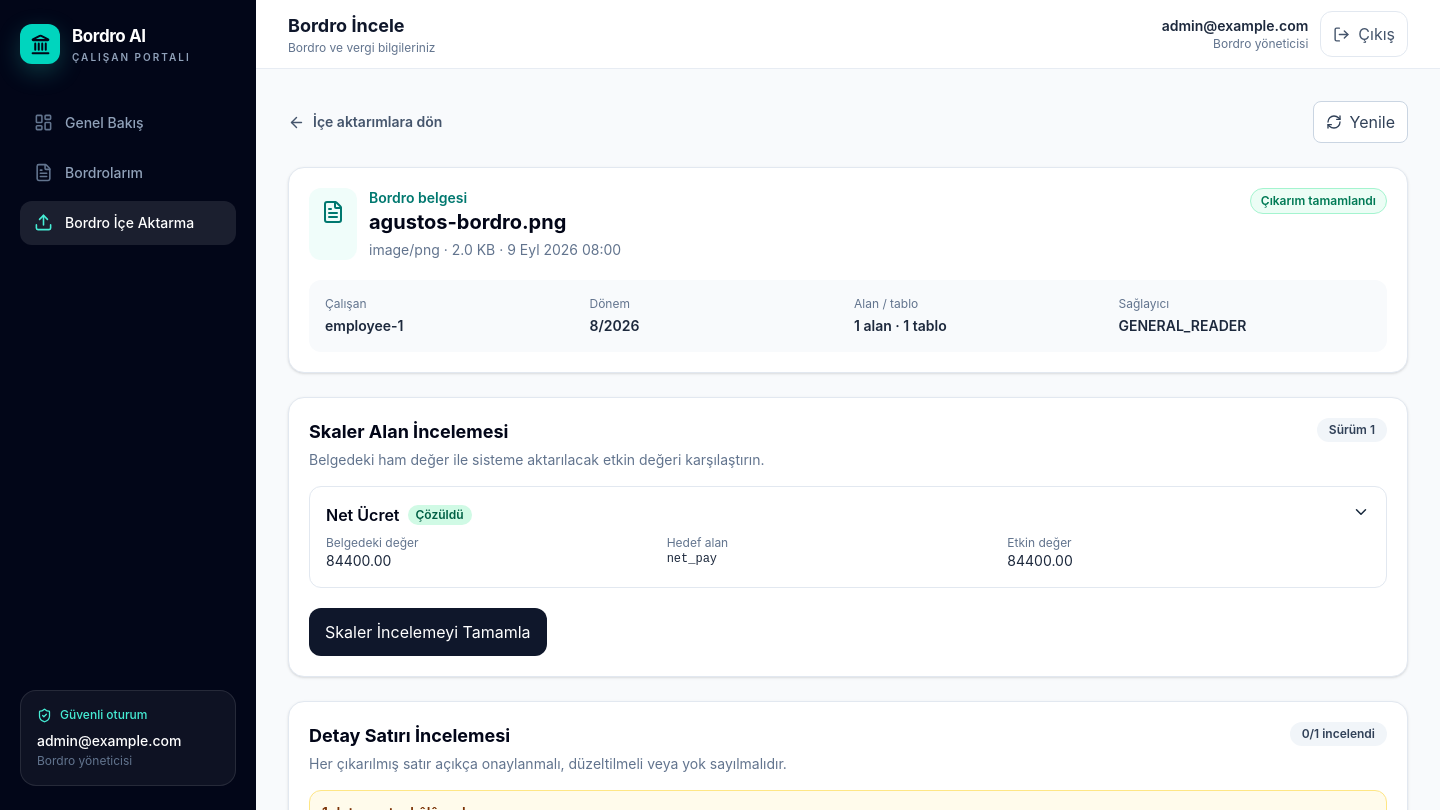
it: V2.2A payroll import experience › reloads and explains a stale optimistic-concurrency conflict
Click the button "Net Ücret": click(363, 515) [310,487,1386,587]
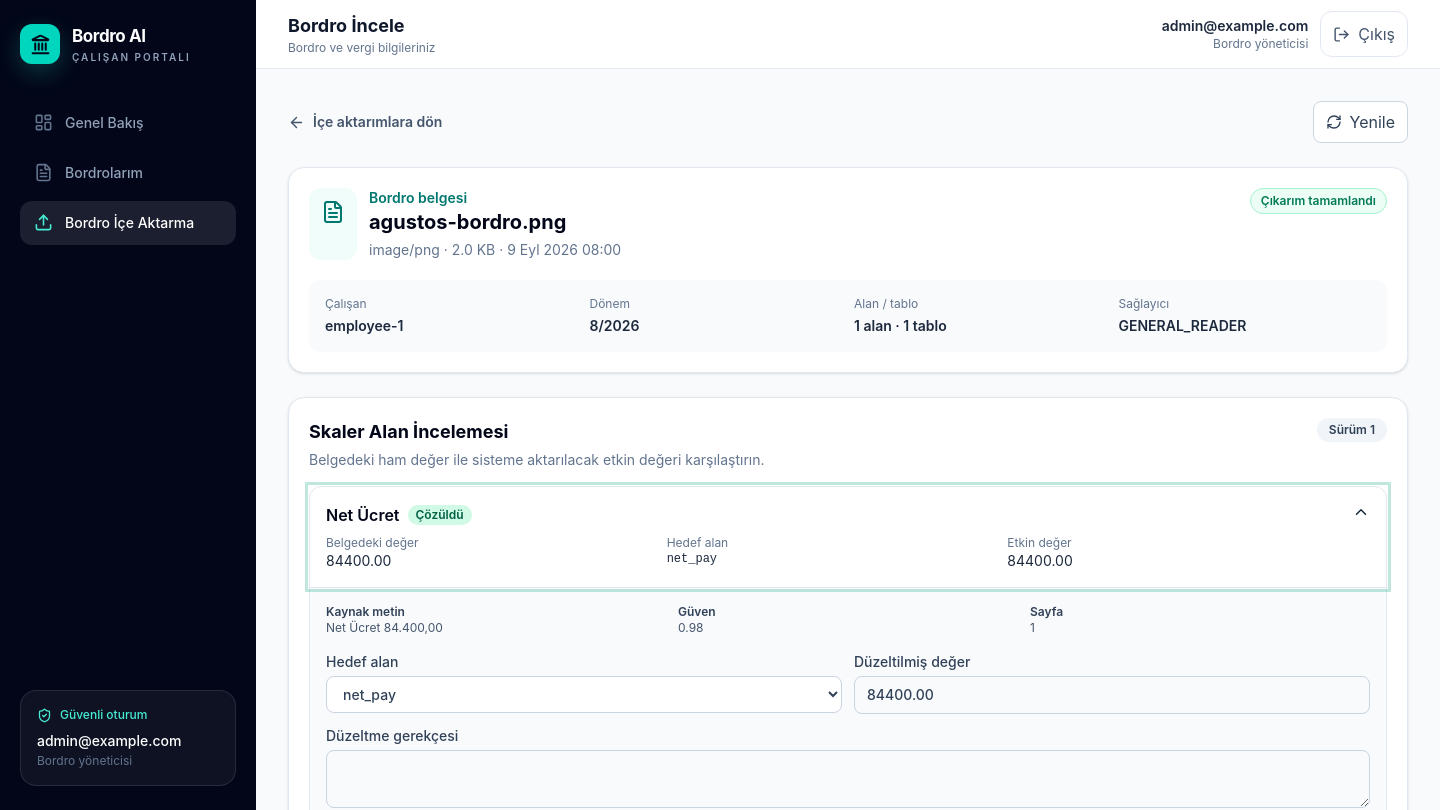
In the text box named "Net Ücret düzeltme gerekçesi": (848, 779) [326,750,1370,808], type "Kontrol edildi"
(page scrolled)
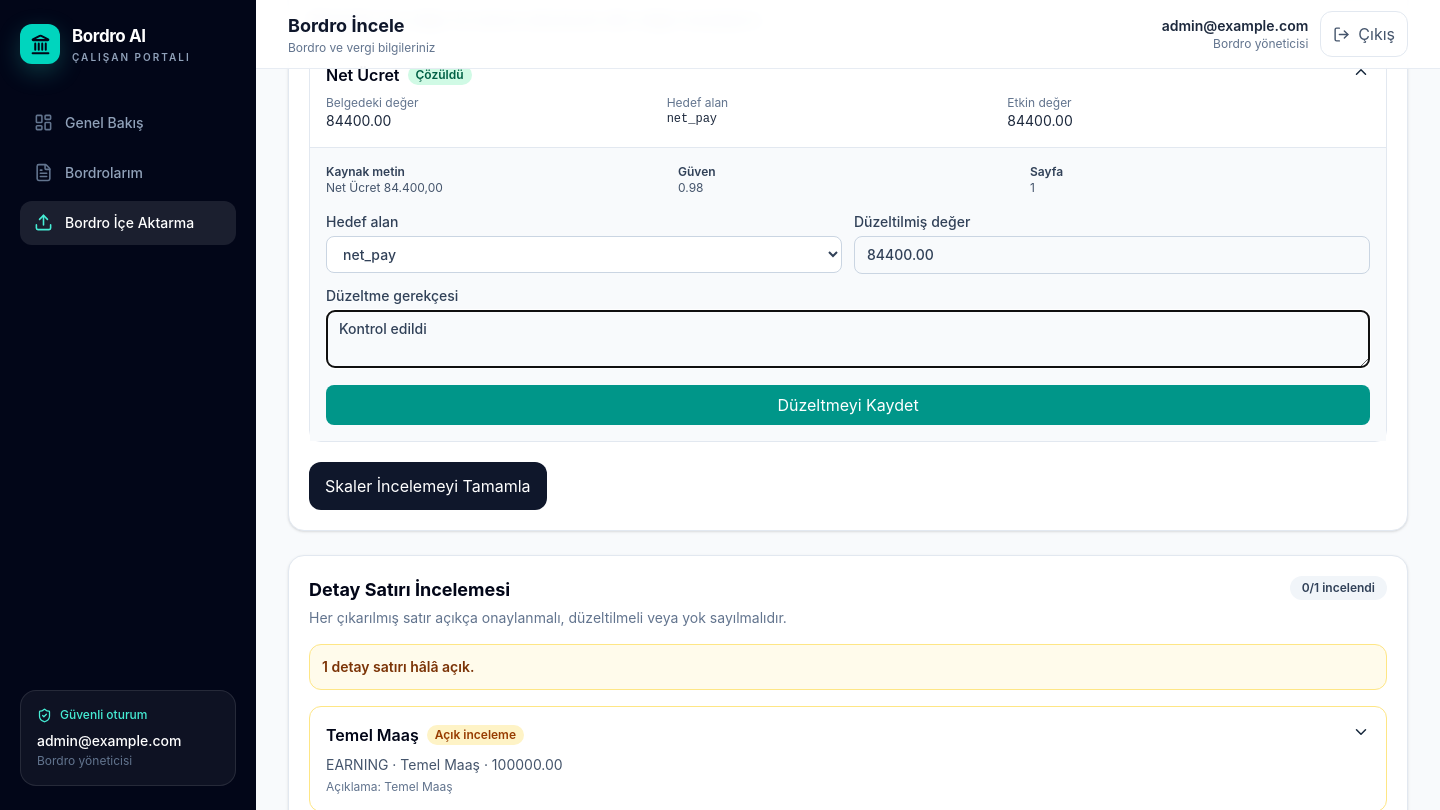
Click the button "Düzeltmeyi Kaydet": click(848, 405) [326,385,1370,425]
(page scrolled)
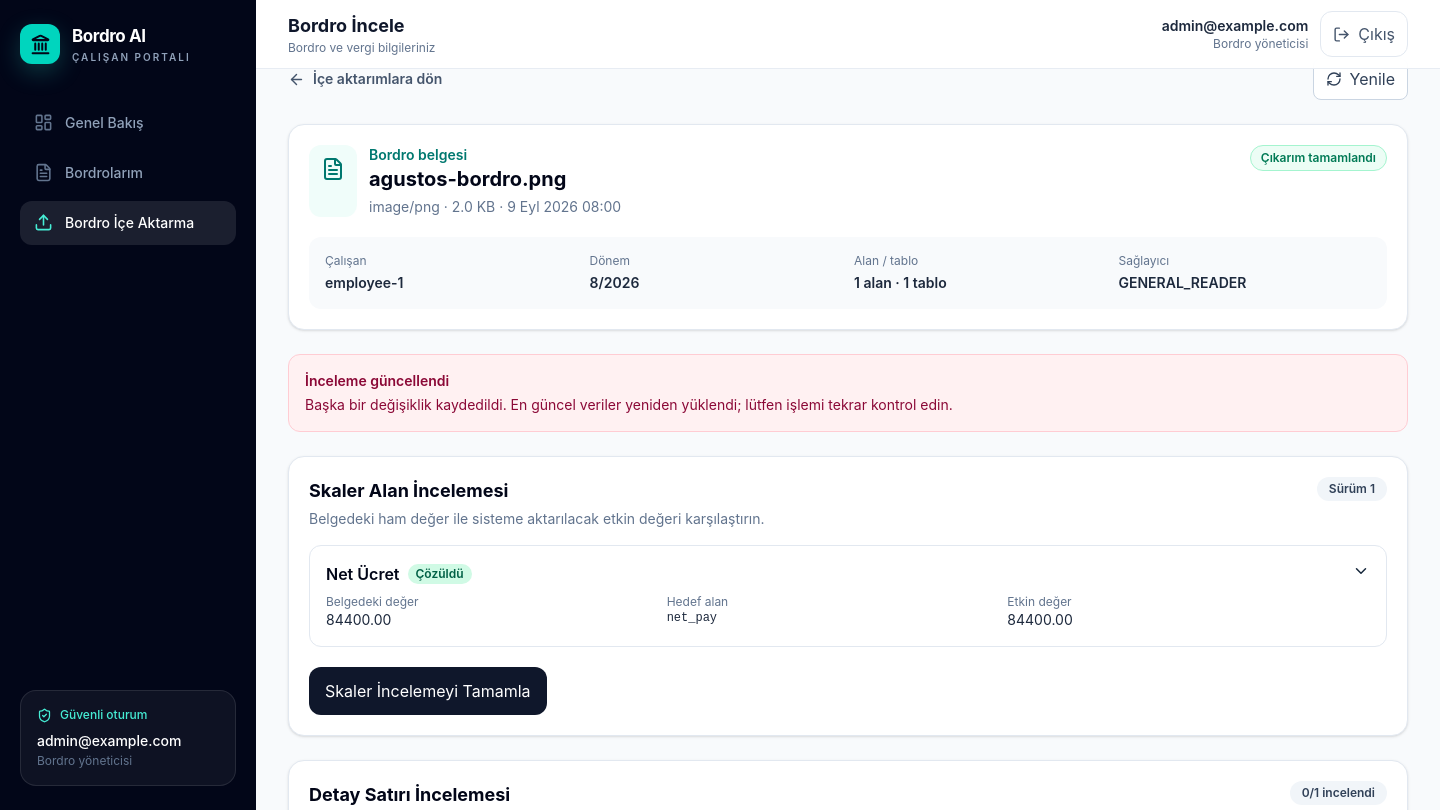
Check: the text "Başka bir değişiklik kaydedildi" is shown, box [305,396,953,413]
